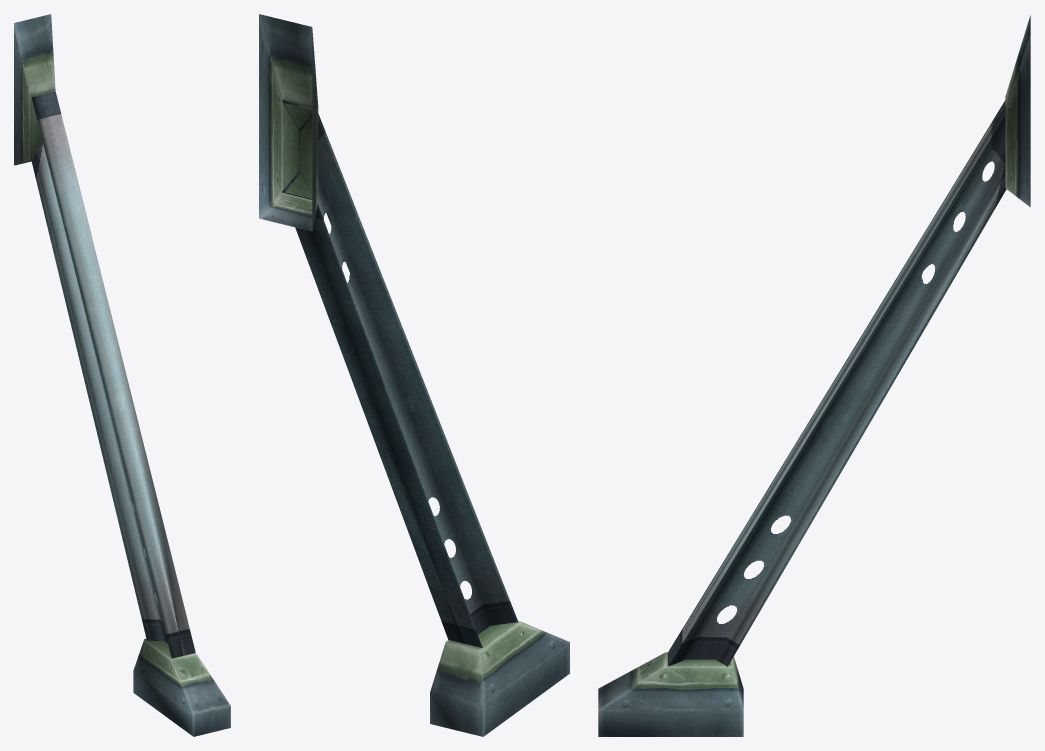
File: obj_madaprrevsupport.glb
3 views of the same model, side by side, from view 1: azimuth 30°, elevation 25°; view 2: azimuth 150°, elevation 25°; view 3: azimuth 270°, elevation 25° (orthographic). The views are drawn at different scales.
Visible parts, largest first — view 1: part_0; view 2: part_0; view 3: part_0.
Part boxes in pixels (x1,y1,x2,y2): part_0: [14, 14, 230, 736]; part_0: [259, 14, 569, 736]; part_0: [598, 15, 1030, 736].
Bounding box in the file's own units: 0.6798 × 10.17 × 5.69.
Materials: 1 (1 with a texture image).
